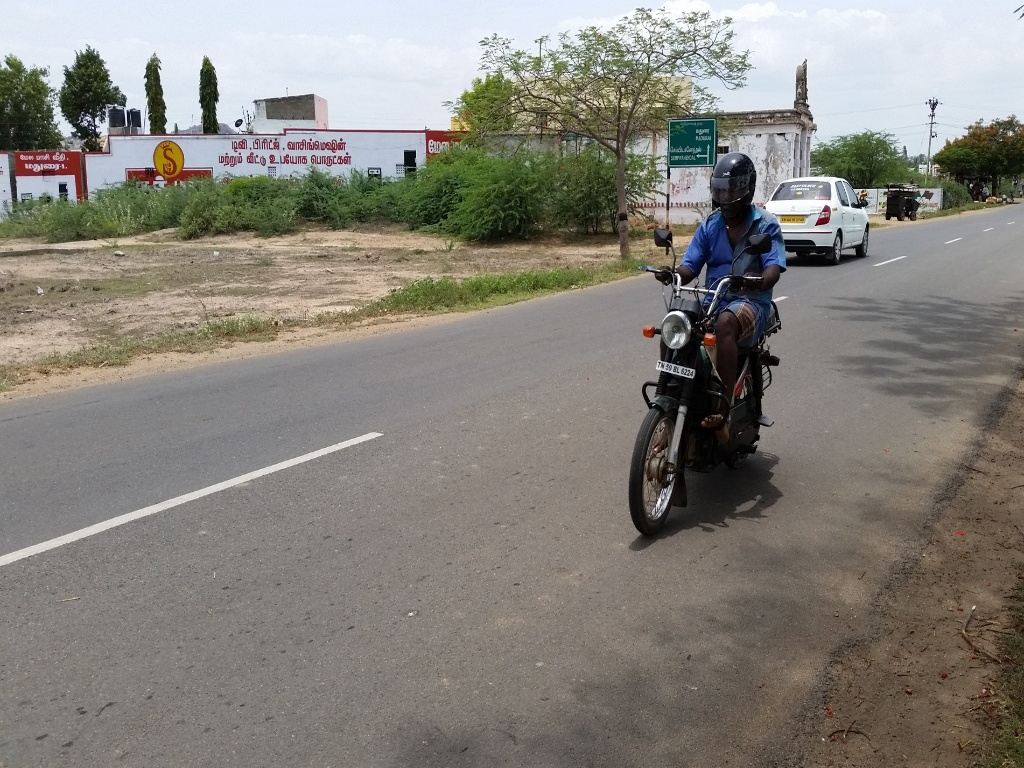biker: (594, 116, 820, 550)
helmet: (702, 140, 767, 227)
